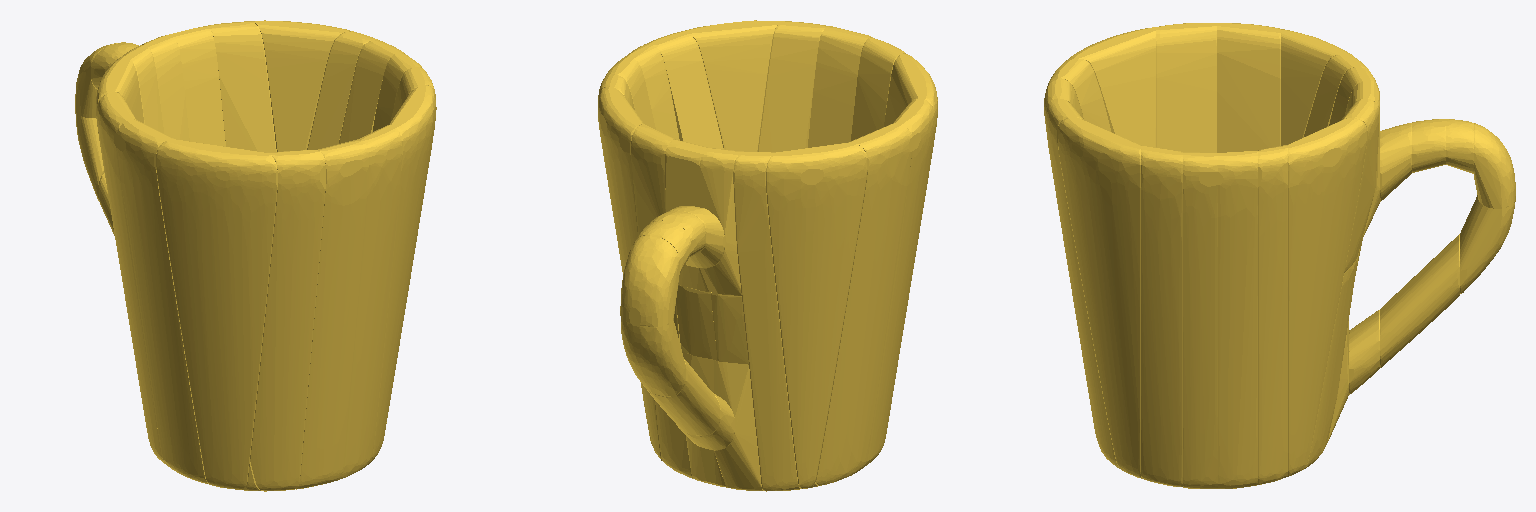
URDF robot description (789.urdf):
<?xml version="1.0" ?>
<robot name="789.urdf">
	<link name="baseLink">
		<inertial>
			<origin rpy="0 0 0" xyz="0 0 0"/>
				<mass value="0.1"/>
				<inertia ixx="6e-5" ixy="0" ixz="0" iyy="6e-5" iyz="0" izz="6e-5"/>
		</inertial>
		<visual>
			<origin rpy="0 0 0" xyz="0 0 0"/>
			<geometry>
				<mesh filename="44_decom_wt.obj" scale="0.88 0.88 0.92"/>
			</geometry>
			<material name="yellow">
				<color rgba="0.98 0.84 0.35 1"/>
			</material>
		</visual>
		<collision>
			<origin rpy="0 0 0" xyz="0 0 0"/>
			<geometry>
				<mesh filename="44_decom_wt.obj" scale="0.88 0.88 0.92"/>
			</geometry>
		</collision>
	</link>
</robot>

--- What the picture shows (computed from the rendered views, not written in the file) ---
Views: 3 orthographic renders of the robot side by side, from view 1: azimuth 30°, elevation 25°; view 2: azimuth 150°, elevation 25°; view 3: azimuth 270°, elevation 25°.
Robot: 789.urdf — 1 links, 0 joints (none); root link baseLink; default pose: every joint at zero.
Visible links, largest first — view 1: baseLink; view 2: baseLink; view 3: baseLink.
Boxes of the visible links, x1,y1,x2,y2 form: baseLink: (75, 20, 436, 491); baseLink: (598, 20, 937, 491); baseLink: (1044, 23, 1515, 488).
Size in the robot's own frame: 0.1004 by 0.1405 by 0.1169 metres.
Meshes: 1 distinct files referenced, 1 mesh visuals loaded (1 OBJ).